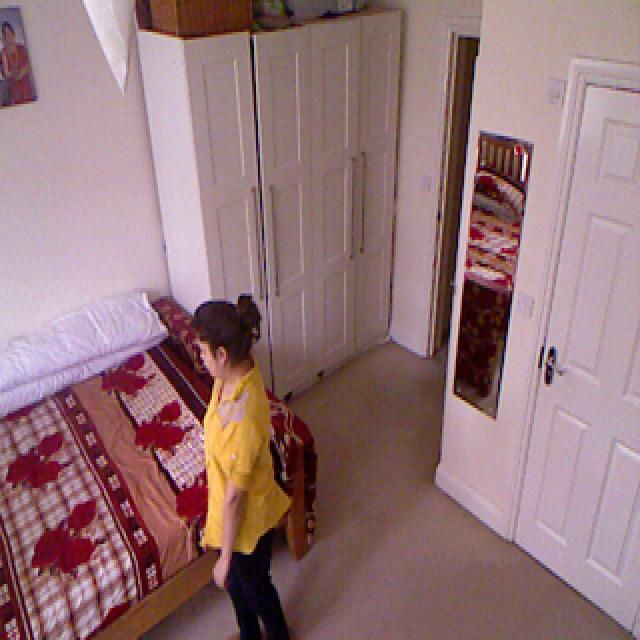standing: (190, 294, 289, 640)
